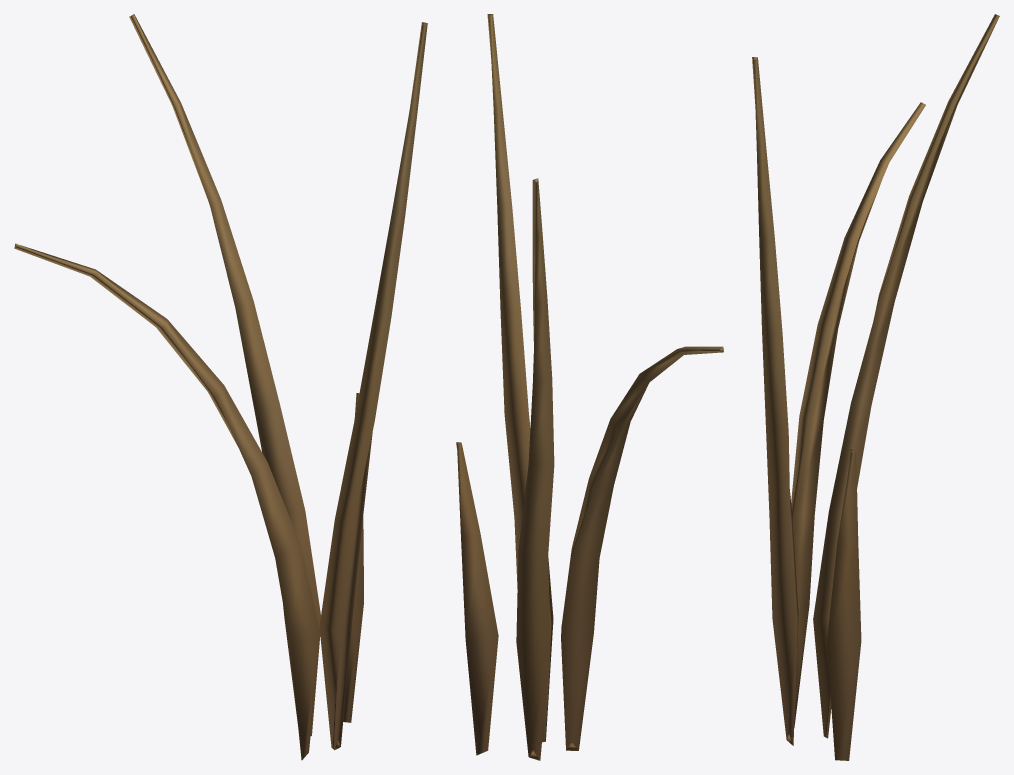
File: trees-grasses-dry-grass-blades_v13.glb
The picture shows the model from 3 angles, left to right: view 1: azimuth 30°, elevation 25°; view 2: azimuth 150°, elevation 25°; view 3: azimuth 270°, elevation 25°; orthographic projection. The views are drawn at different scales.
Visible parts, largest first — view 1: Dry Grass Blades_v13; view 2: Dry Grass Blades_v13; view 3: Dry Grass Blades_v13.
Boxes of the visible parts, x1,y1,x2,y2 form: Dry Grass Blades_v13: (14, 14, 427, 760); Dry Grass Blades_v13: (456, 14, 723, 760); Dry Grass Blades_v13: (752, 14, 999, 760).
Size of the model in its own units: 0.2856 by 0.6 by 0.1873.
